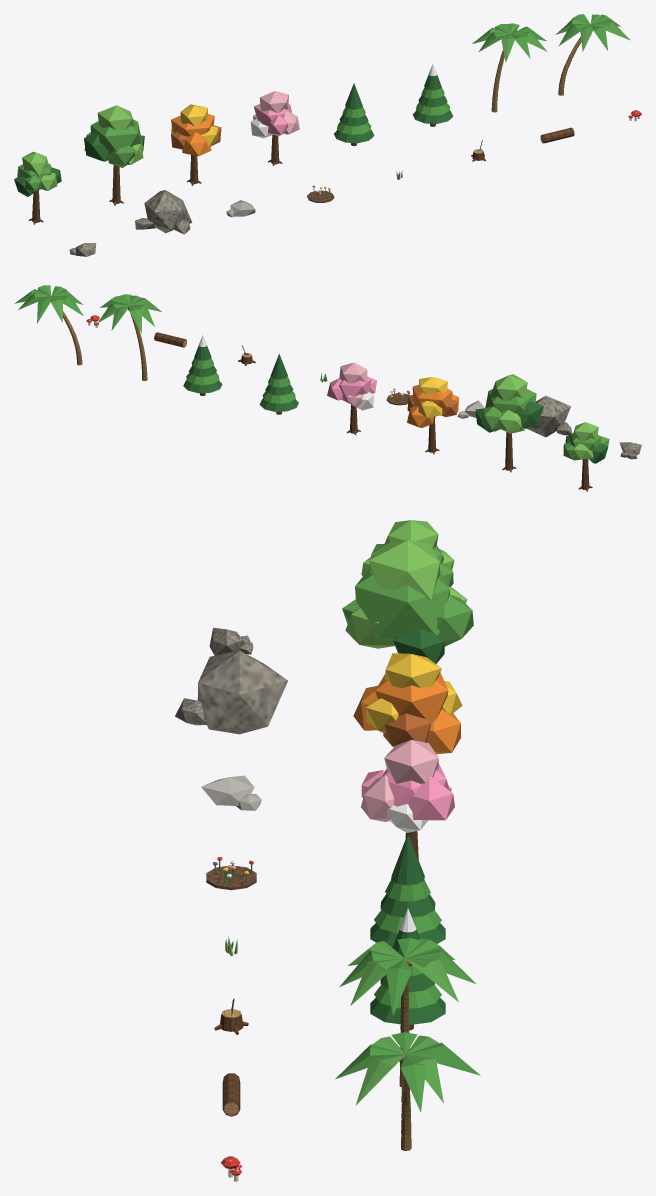
Rendered from Props_Nature.fbx.
3 views of the same model, one above another, from view 1: azimuth 30°, elevation 25°; view 2: azimuth 150°, elevation 25°; view 3: azimuth 270°, elevation 25° (orthographic). The views are drawn at different scales.
Visible parts, largest first — view 1: TreeRoundBig, TreeAutumn, TreeBlossom, TreeRound, RockBig, PalmTree, PalmTreeLeaning, PineSnowy, Pine, MoonRock; view 2: TreeRoundBig, TreeAutumn, TreeBlossom, TreeRound, PalmTree, PalmTreeLeaning, Pine, PineSnowy, RockBig, Rock; view 3: TreeRoundBig, TreeAutumn, TreeBlossom, RockBig, PalmTreeLeaning, PalmTree, Pine, PineSnowy, TreeRound, MoonRock, FlowerPatch, Rock.
Part boxes in pixels (x1,y1,x2,y2): TreeRoundBig: (84, 105, 144, 205); TreeAutumn: (171, 104, 221, 185); TreeBlossom: (250, 91, 299, 165); TreeRound: (14, 151, 61, 224); RockBig: (135, 190, 192, 234); PalmTree: (472, 23, 547, 112); PalmTreeLeaning: (555, 14, 630, 95); PineSnowy: (412, 64, 453, 126); Pine: (334, 83, 374, 146); MoonRock: (226, 200, 255, 217); TreeRoundBig: (475, 374, 543, 472); TreeAutumn: (407, 377, 458, 454); TreeBlossom: (327, 362, 376, 435); TreeRound: (563, 422, 609, 491); PalmTree: (97, 294, 161, 380); PalmTreeLeaning: (14, 285, 83, 365); Pine: (259, 354, 298, 414); PineSnowy: (183, 335, 222, 395); RockBig: (526, 395, 571, 437); Rock: (619, 442, 641, 459); TreeRoundBig: (342, 540, 473, 663); TreeAutumn: (353, 653, 462, 754); TreeBlossom: (361, 740, 454, 859); RockBig: (175, 650, 287, 734); PalmTreeLeaning: (335, 1032, 480, 1150); PalmTree: (339, 938, 475, 1086); Pine: (370, 834, 445, 947); PineSnowy: (370, 908, 445, 1030); TreeRound: (361, 520, 454, 586); MoonRock: (201, 775, 261, 810); FlowerPatch: (206, 857, 256, 890); Rock: (209, 627, 253, 655).
Size of the model in its own units: 123 by 18.91 by 27.79.
Materials: 1 (1 with a texture image).
